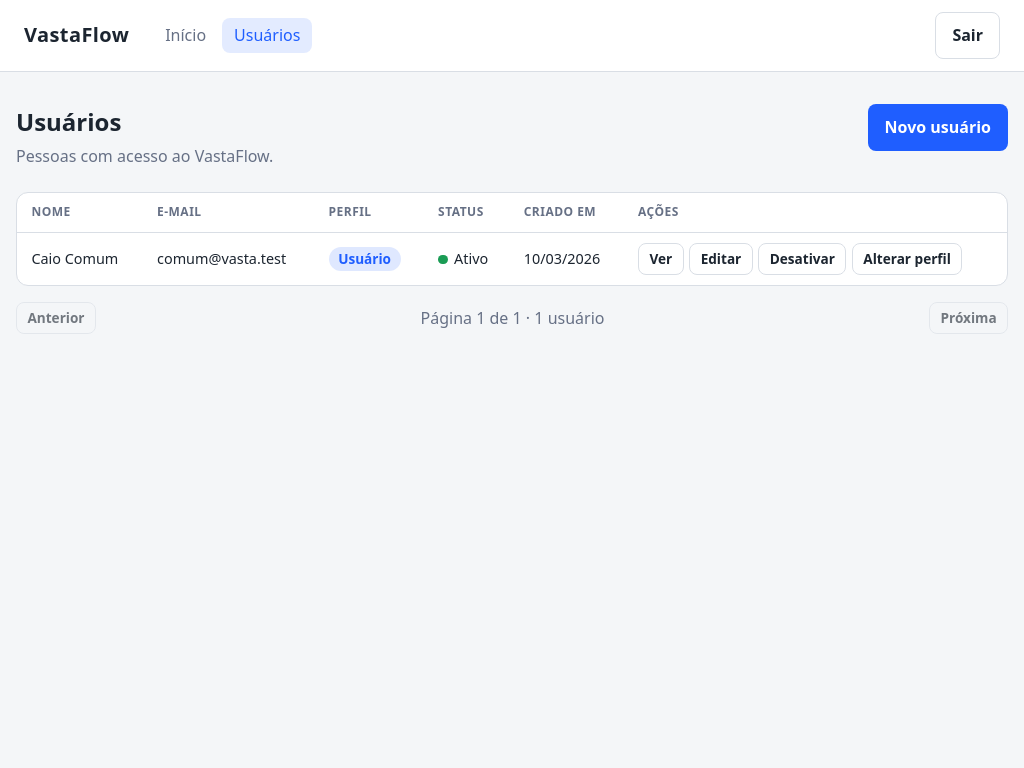
Test: ativar/desativar e perfil › confirmando, desativa e mostra a mensagem de sucesso
The width and height of the screenshot is (1024, 768).
Click the button "Desativar" at (802, 259), box 758,243 -> 846,275
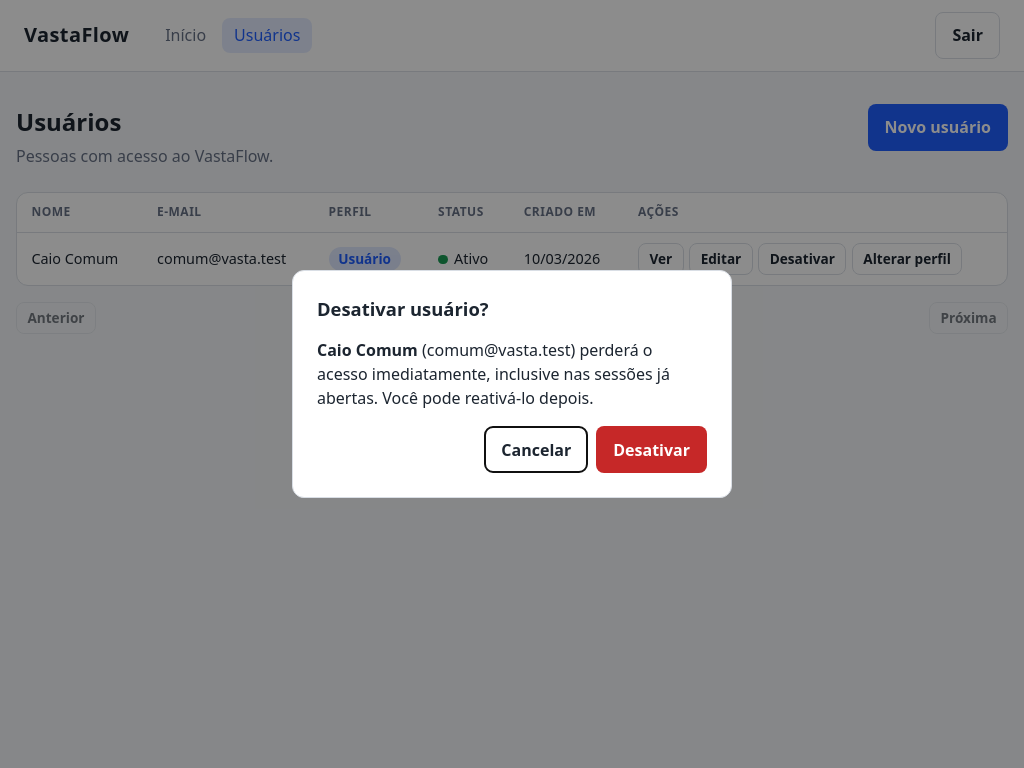
Click the button "Desativar" at (652, 450), box 596,426 -> 707,473
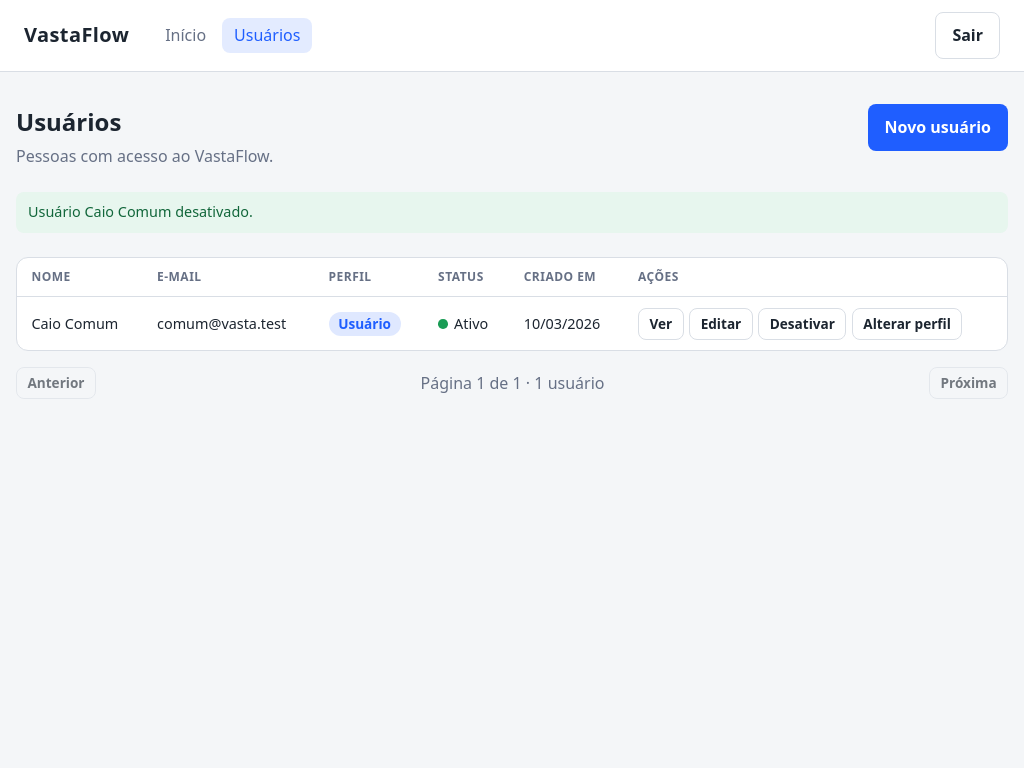
Expected: the message reads "Usuário Caio Comum desativado.", 28,202 -> 253,221
